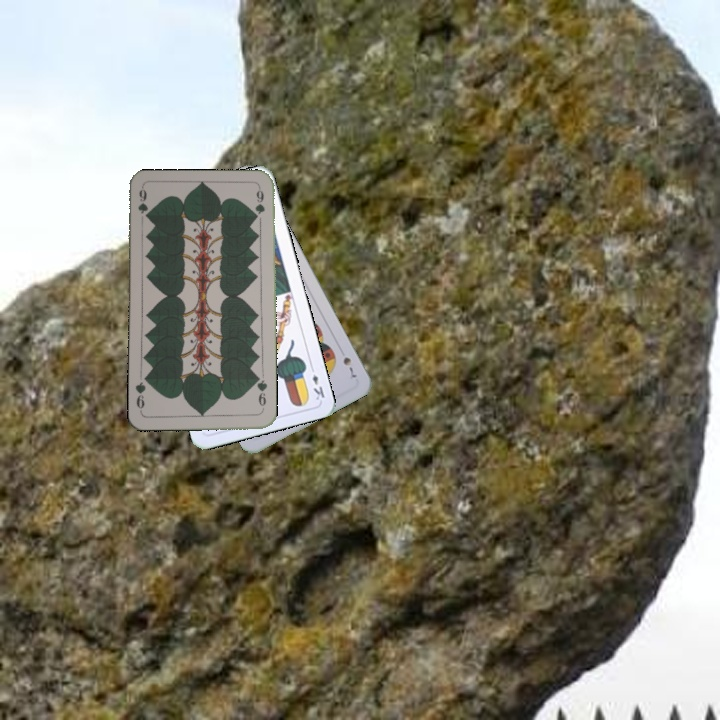EK: (306, 362, 327, 403)
G9: (252, 373, 270, 414), (134, 185, 151, 221)
S7: (339, 353, 359, 382)
